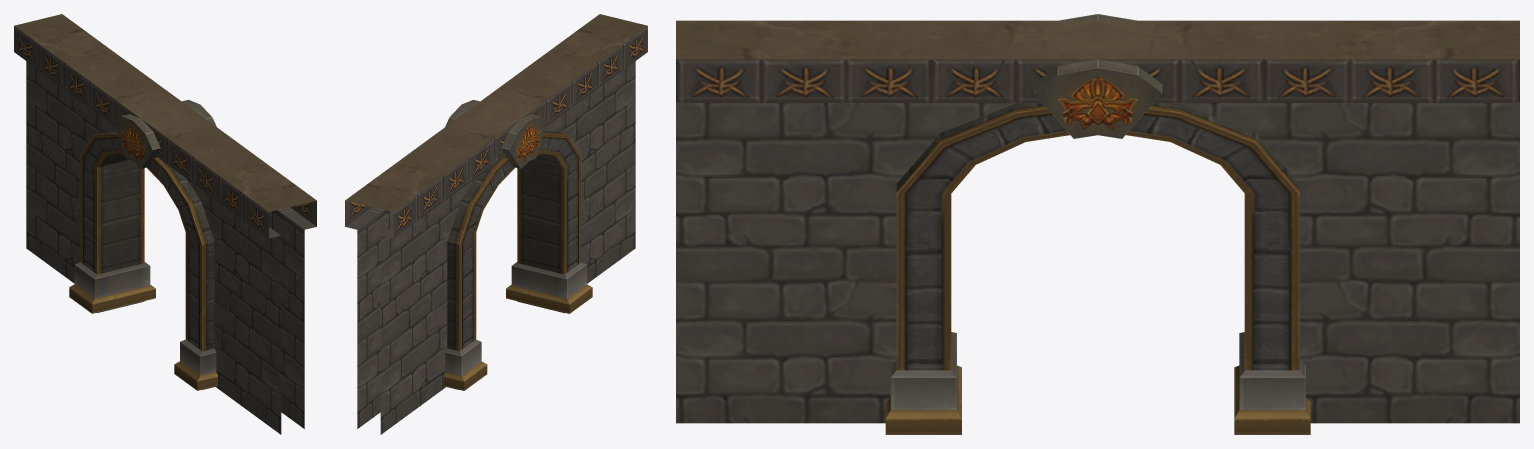
Rendered from Battle06_Wall_016.FBX.
3 renders of one model, left to right at view 1: azimuth 30°, elevation 25°; view 2: azimuth 150°, elevation 25°; view 3: azimuth 270°, elevation 25°, orthographic. The views are drawn at different scales.
Visible parts, largest first — view 1: Battle06_Wall_016; view 2: Battle06_Wall_016; view 3: Battle06_Wall_016.
Part boxes in pixels (bbox=[...]): Battle06_Wall_016: bbox=[14, 14, 316, 434]; Battle06_Wall_016: bbox=[345, 14, 647, 434]; Battle06_Wall_016: bbox=[676, 14, 1519, 434].
Bounding box in the file's own units: 2.88 × 9.3 × 18.95.
